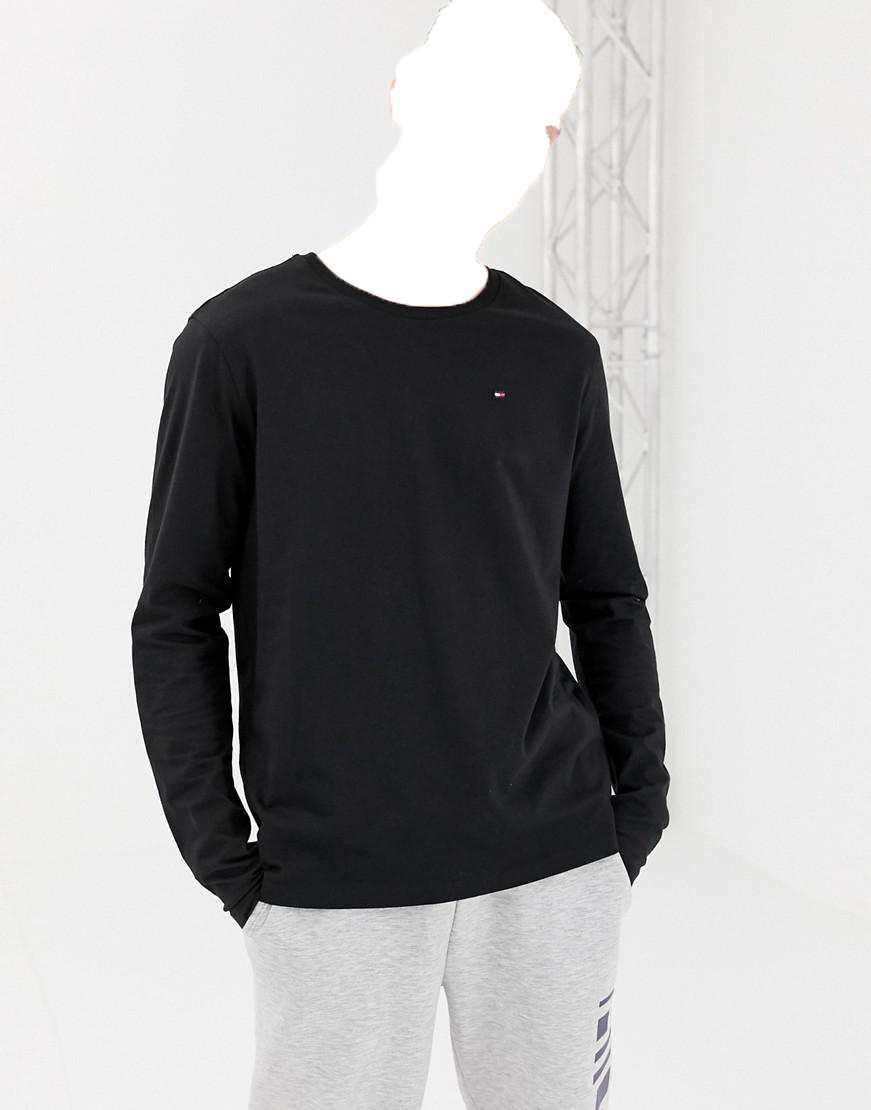teeshirt: (122, 246, 681, 896)
